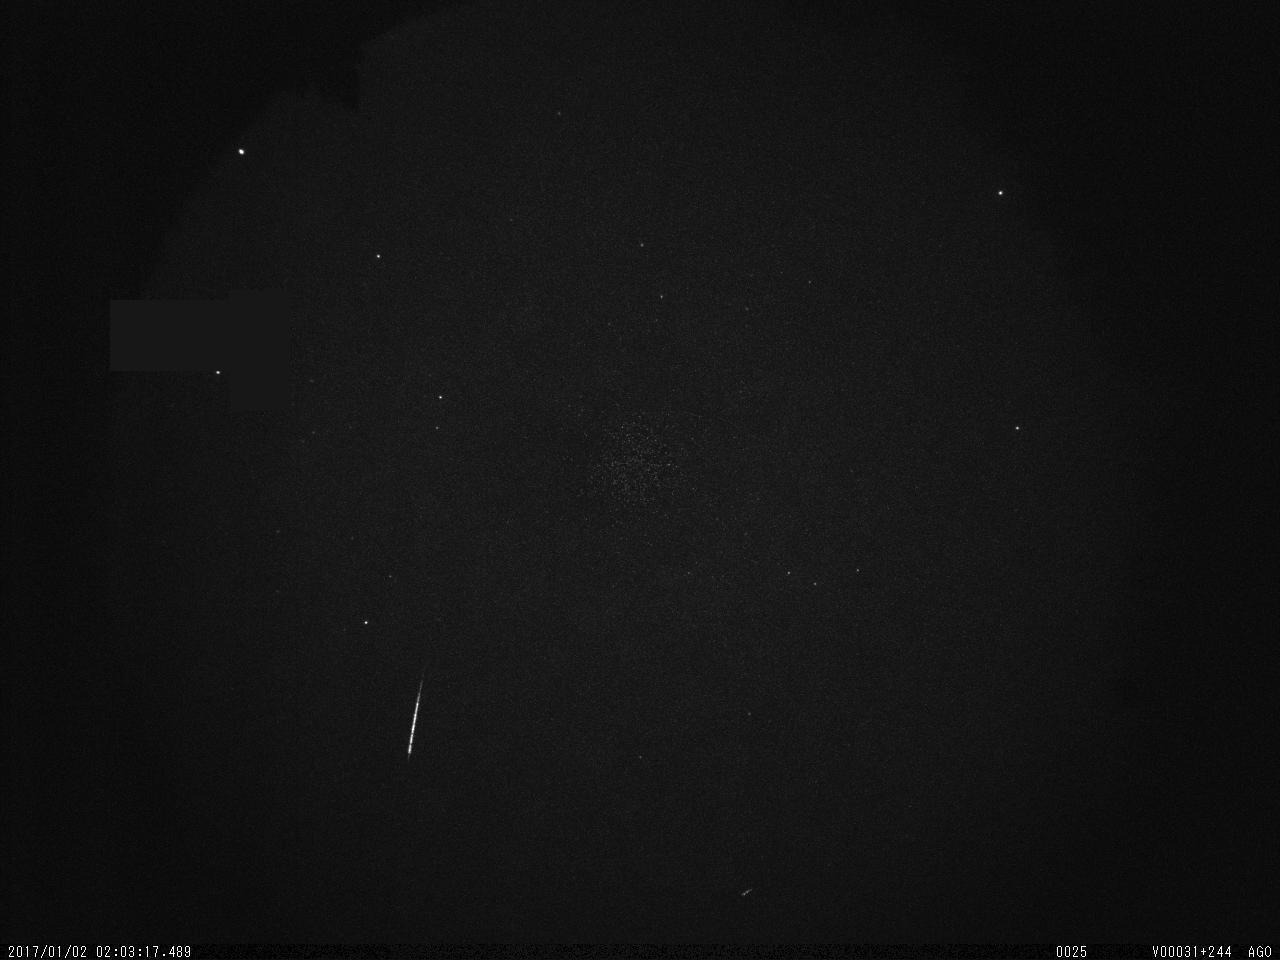Meteor: (403, 671, 427, 757), (737, 885, 754, 901)
